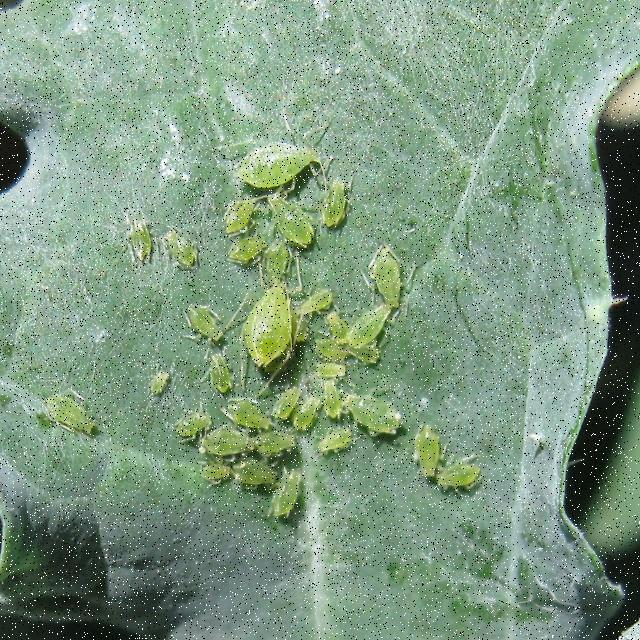Aphids: (209, 109, 333, 213), (224, 271, 319, 377)
